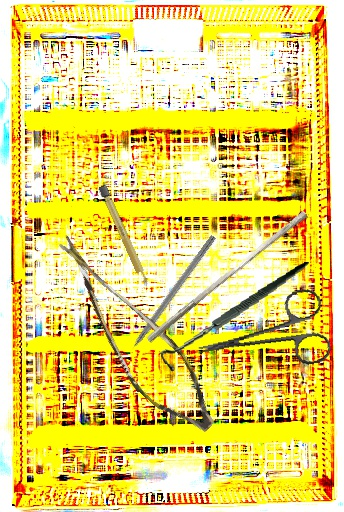Hook Surgical: (152, 262, 319, 372), (119, 233, 217, 364)
Iris Scissors: (191, 286, 333, 385)
Micro Scissor: (19, 234, 244, 443)
Pusher: (145, 204, 309, 350)
Scalpel Handle: (97, 183, 151, 290)
